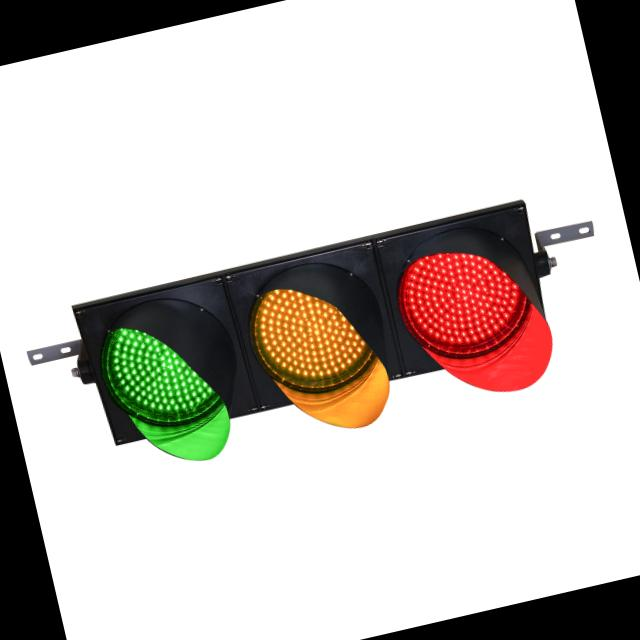green-lights: (93, 310, 225, 436)
red-lights: (392, 234, 529, 358)
yellow-lights: (242, 270, 372, 392)
